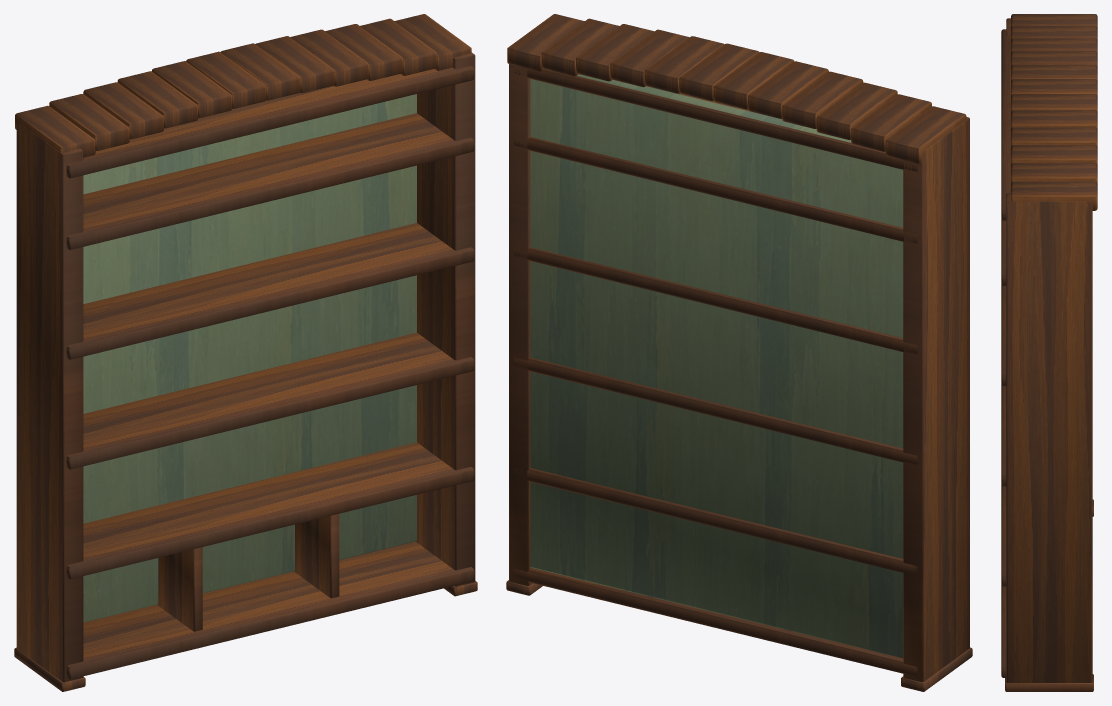
File: CM_AF01_MedicineShelving.fbx
3 renders of one model, left to right at view 1: azimuth 30°, elevation 25°; view 2: azimuth 150°, elevation 25°; view 3: azimuth 270°, elevation 25°, orthographic. The views are drawn at different scales.
Visible parts, largest first — view 1: CM_AF01_MedicineShelving; view 2: CM_AF01_MedicineShelving; view 3: CM_AF01_MedicineShelving.
Part boxes in pixels (box(x1,y1,x2,y2)): CM_AF01_MedicineShelving: box(14, 14, 477, 691); CM_AF01_MedicineShelving: box(506, 14, 972, 691); CM_AF01_MedicineShelving: box(1001, 14, 1097, 691).
Size of the model in its own units: 1.83 by 2.32 by 0.4.
